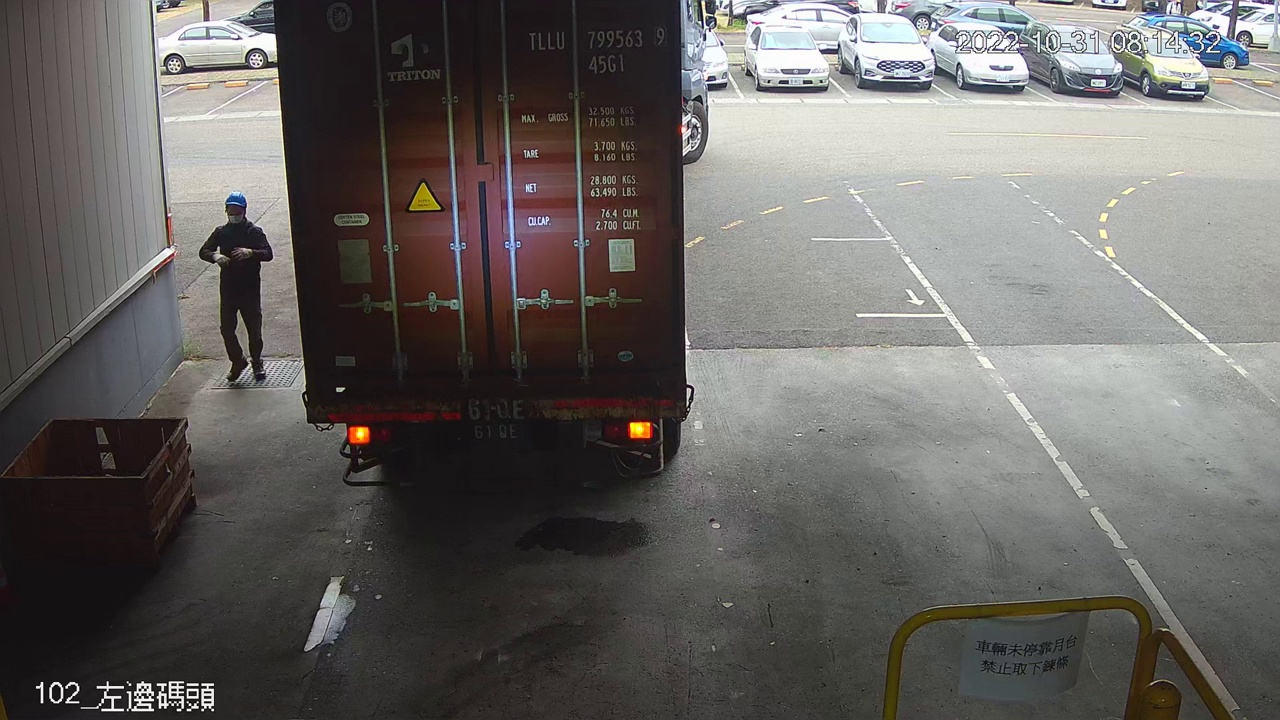container: (522, 19, 670, 81)
